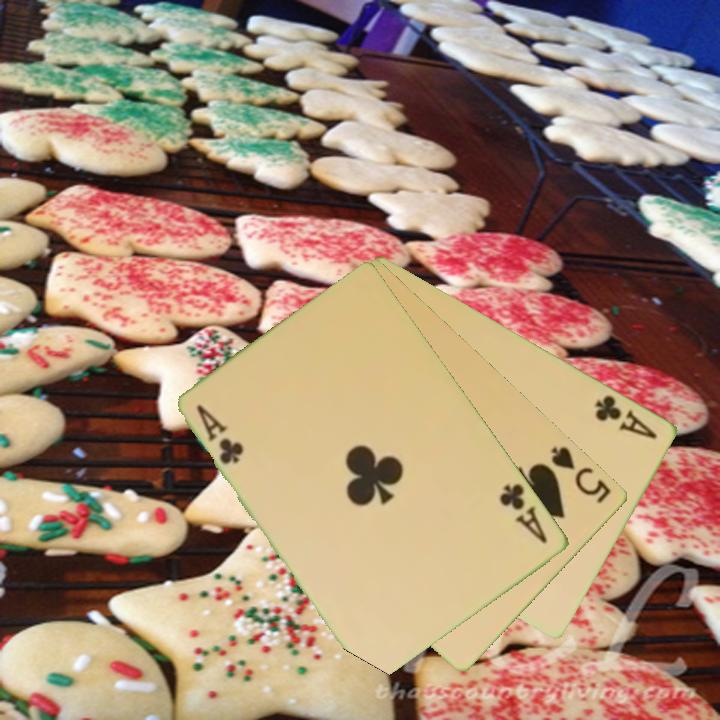5s: (547, 442, 615, 507)
Ac: (193, 400, 248, 468), (496, 480, 551, 547), (592, 391, 661, 442)
